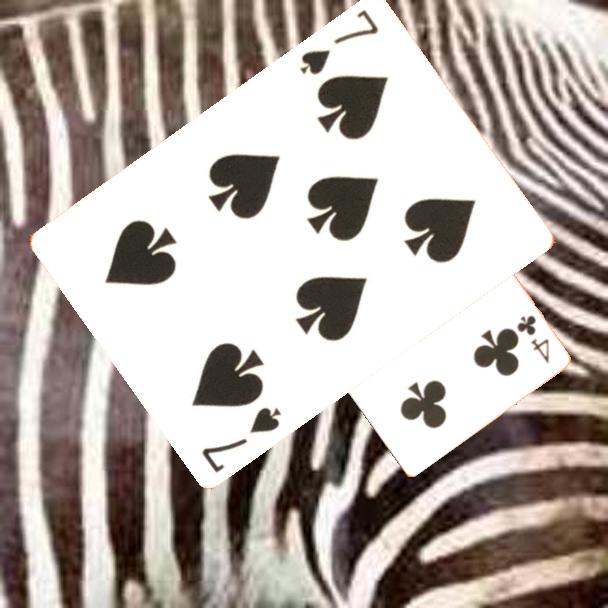c04: (513, 311, 552, 366)
s07: (198, 403, 285, 476), (296, 5, 382, 78)
